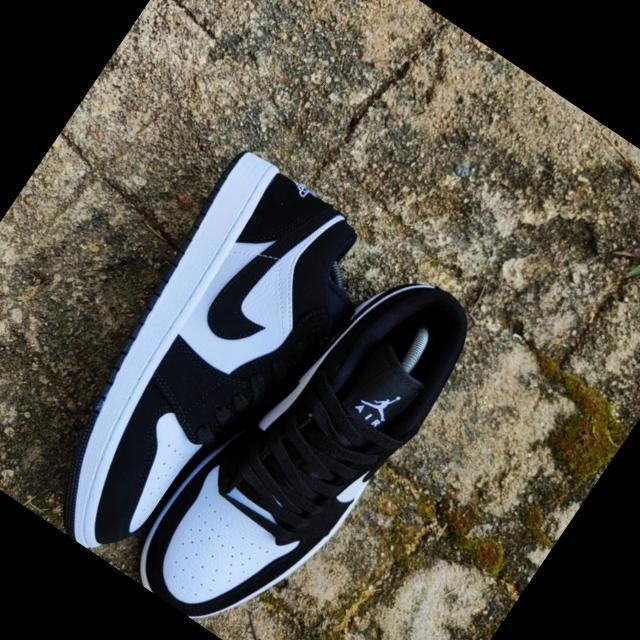nike fake jordan 1: (5, 144, 404, 603), (126, 228, 500, 640)
